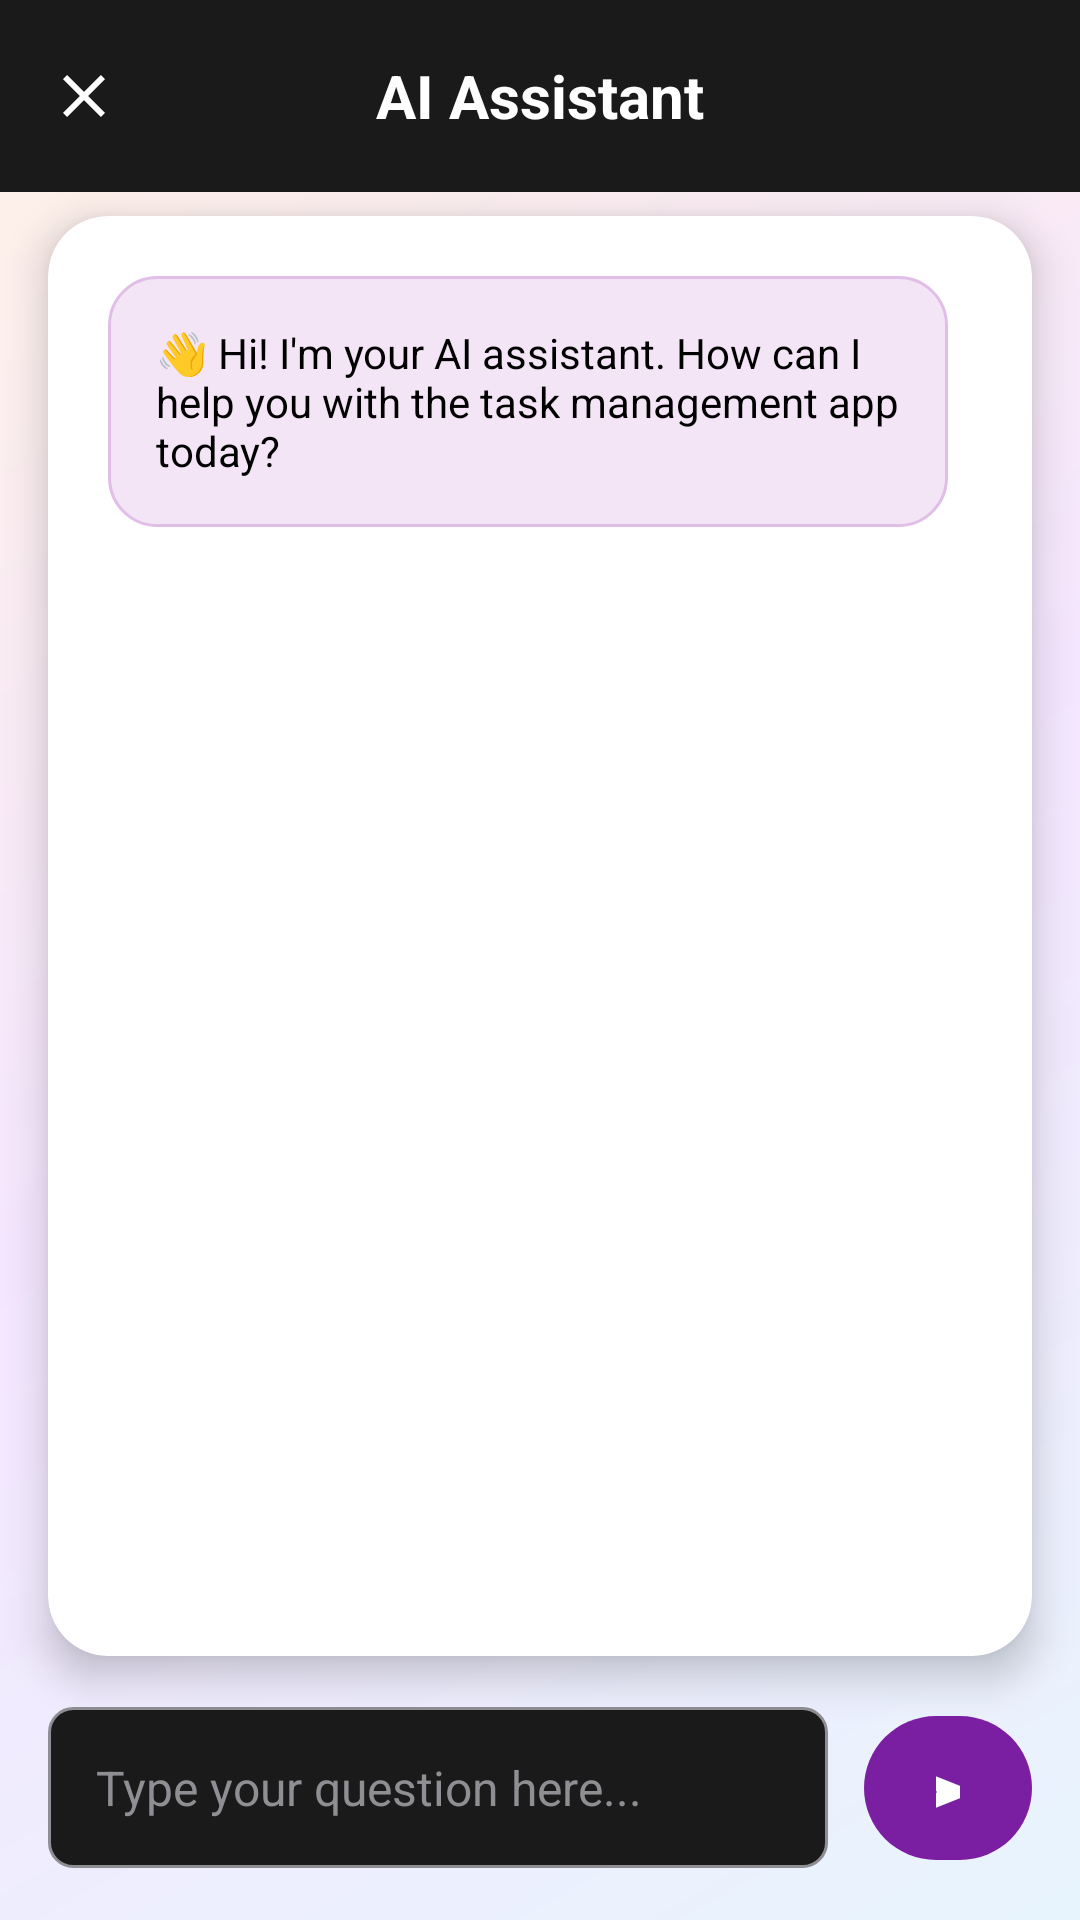

Icons on this 1080 x 1920 Android screen, each with the point to tap as point (x, y):
Close chat: point (84, 96)
